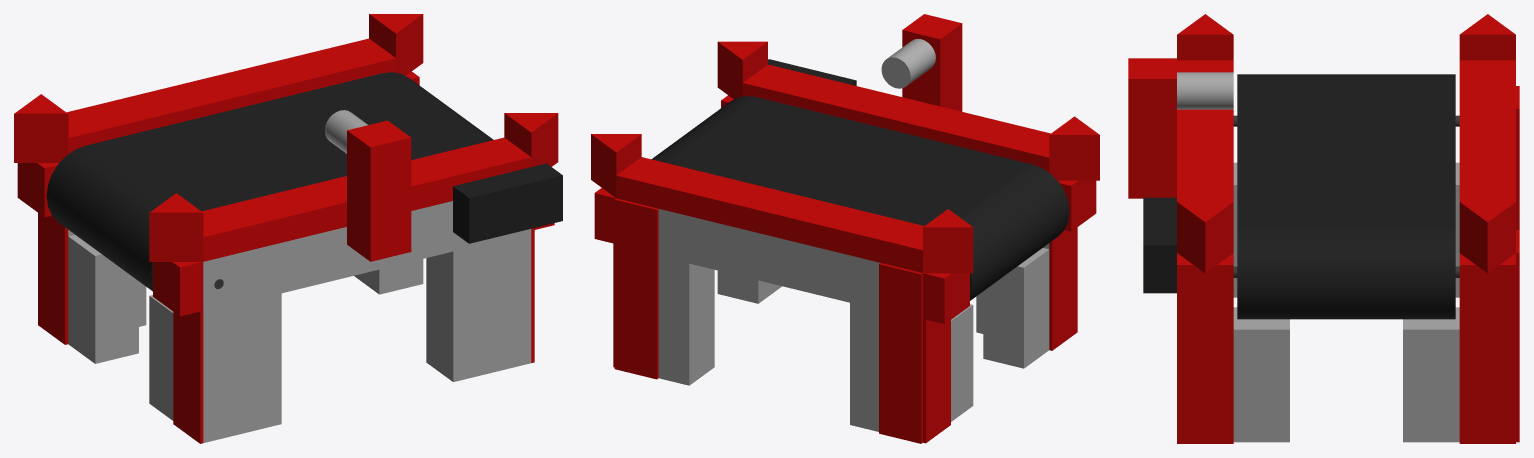
File: assembly_Conveyer.dae
3 views of the same model, side by side, from view 1: azimuth 30°, elevation 25°; view 2: azimuth 150°, elevation 25°; view 3: azimuth 270°, elevation 25° (orthographic). The views are drawn at different scales.
Visible parts, largest first — view 1: Komponente_2 (×4), Band_2, Komponente_3 (×2), Komponente_1 (×2), Dreieck (×4), Sensor_Ständer, Motor, Sensor; view 2: Komponente_1 (×2), Band_2, Komponente_2 (×4), Komponente_3 (×2), Dreieck (×4), Sensor_Ständer, Sensor, Motor; view 3: Band_2, Komponente_1 (×2), Komponente_3 (×2), Komponente_2 (×4), Dreieck (×4), Sensor_Ständer, Motor, Sensor.
Boxes of the visible parts, left/top/right/bottom form: Komponente_2 (×4): left=68, top=201, right=531, bottom=442; Band_2: left=46, top=72, right=493, bottom=291; Komponente_3 (×2): left=153, top=137, right=554, bottom=443; Komponente_1 (×2): left=17, top=38, right=419, bottom=344; Dreieck (×4): left=14, top=14, right=558, bottom=261; Sensor_Ständer: left=347, top=120, right=411, bottom=261; Motor: left=453, top=163, right=562, bottom=243; Sensor: left=324, top=110, right=367, bottom=153; Komponente_1 (×2): left=594, top=157, right=969, bottom=443; Band_2: left=652, top=96, right=1069, bottom=300; Komponente_2 (×4): left=658, top=209, right=1049, bottom=431; Komponente_3 (×2): left=721, top=64, right=1096, bottom=350; Dreieck (×4): left=591, top=41, right=1099, bottom=273; Sensor_Ständer: left=902, top=14, right=962, bottom=111; Sensor: left=881, top=39, right=935, bottom=88; Motor: left=768, top=59, right=856, bottom=85; Band_2: left=1237, top=74, right=1455, bottom=319; Komponente_1 (×2): left=1459, top=60, right=1519, bottom=443; Komponente_3 (×2): left=1177, top=60, right=1233, bottom=443; Komponente_2 (×4): left=1233, top=162, right=1459, bottom=442; Dreieck (×4): left=1177, top=14, right=1515, bottom=273; Sensor_Ständer: left=1128, top=58, right=1176, bottom=198; Motor: left=1143, top=197, right=1176, bottom=293; Sensor: left=1177, top=72, right=1233, bottom=109.
Size of the model in its own units: 5.16 by 4.09 by 3.35.
